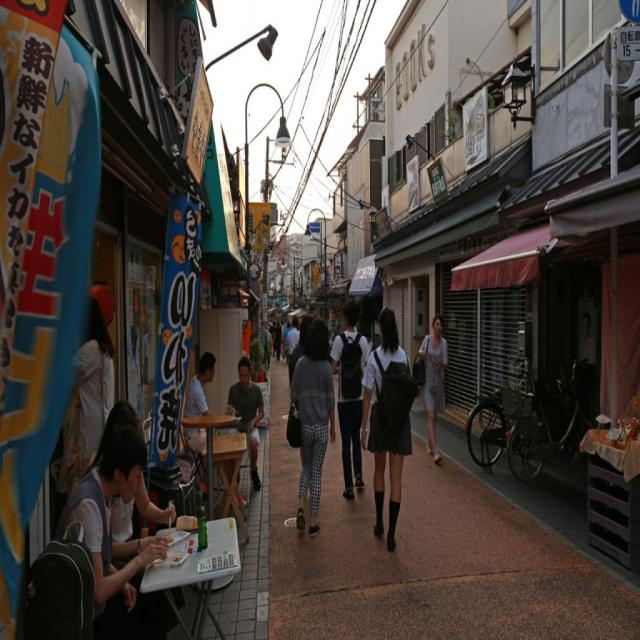body: (48, 420, 171, 639), (81, 398, 177, 594), (52, 292, 118, 503), (359, 304, 414, 556), (286, 314, 338, 539), (182, 350, 249, 510), (324, 297, 374, 506), (222, 351, 266, 494), (418, 310, 450, 466), (288, 312, 316, 390), (287, 316, 300, 387), (267, 319, 289, 360), (578, 312, 594, 362)
